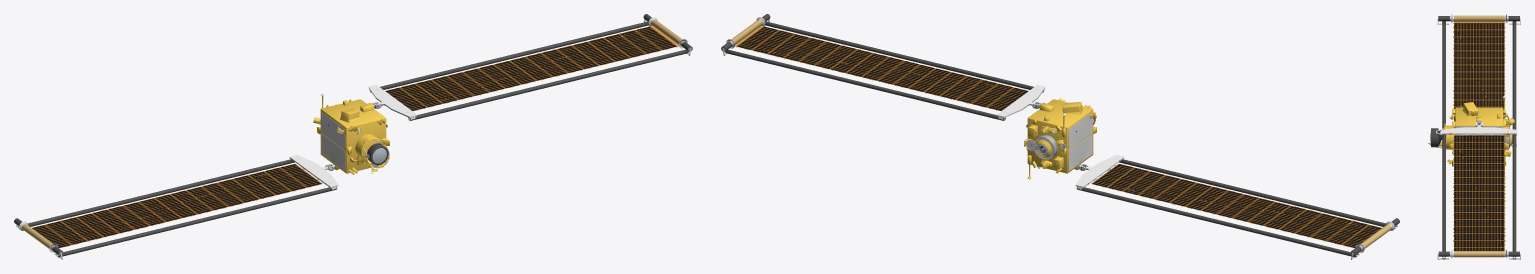
File: dart.glb
The picture shows the model from 3 angles, left to right: view 1: azimuth 30°, elevation 25°; view 2: azimuth 150°, elevation 25°; view 3: azimuth 270°, elevation 25°; orthographic projection. The views are drawn at different scales.
Parts seen in each view (by area): view 1: array.001, array, arrayright, arrayleft, bus, dart_bakes; view 2: array.001, array, arrayright, arrayleft, bus, dart_bakes; view 3: array.001, array, arrayright, bus, arrayleft, dart_bakes, arrayTag.001, Cube.004, arrayTag.
Part boxes in pixels (x1,y1,x2,y2): array.001: (385, 25, 678, 110); array: (32, 164, 322, 248); arrayright: (368, 14, 692, 120); arrayleft: (14, 155, 338, 259); bus: (313, 95, 389, 174); dart_bakes: (320, 93, 389, 171); array.001: (735, 25, 1028, 110); array: (1091, 164, 1381, 248); arrayright: (721, 14, 1045, 120); arrayleft: (1075, 155, 1399, 259); bus: (1024, 98, 1096, 178); dart_bakes: (1025, 113, 1095, 179); array.001: (1454, 135, 1504, 250); array: (1454, 21, 1504, 121); arrayright: (1437, 120, 1520, 259); bus: (1439, 97, 1514, 178); arrayleft: (1437, 14, 1520, 146); dart_bakes: (1430, 95, 1509, 162); arrayTag.001: (1453, 137, 1505, 250); Cube.004: (1461, 134, 1501, 135); arrayTag: (1453, 23, 1505, 119).
Size of the model in its own units: 17.52 by 1.95 by 2.4.
Materials: 16 (8 with a texture image).
